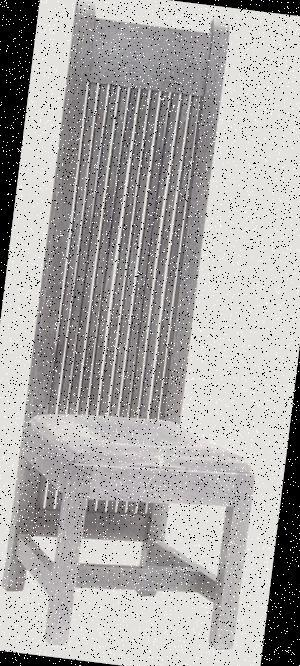Silla: (0, 8, 299, 662)
